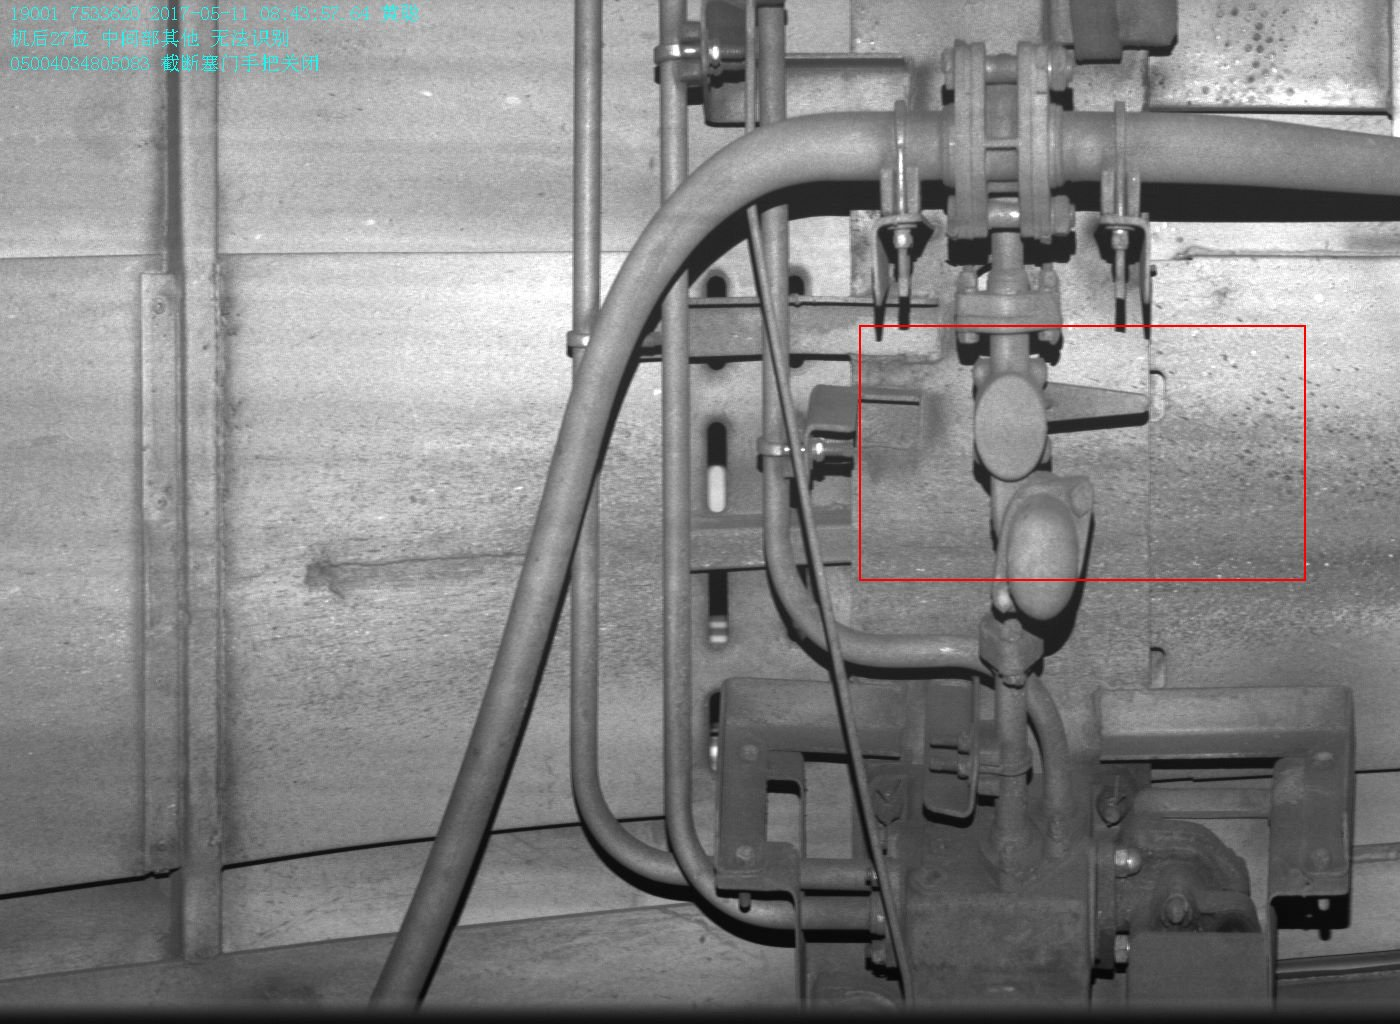truncated plug door handle: (971, 354, 1152, 482)
